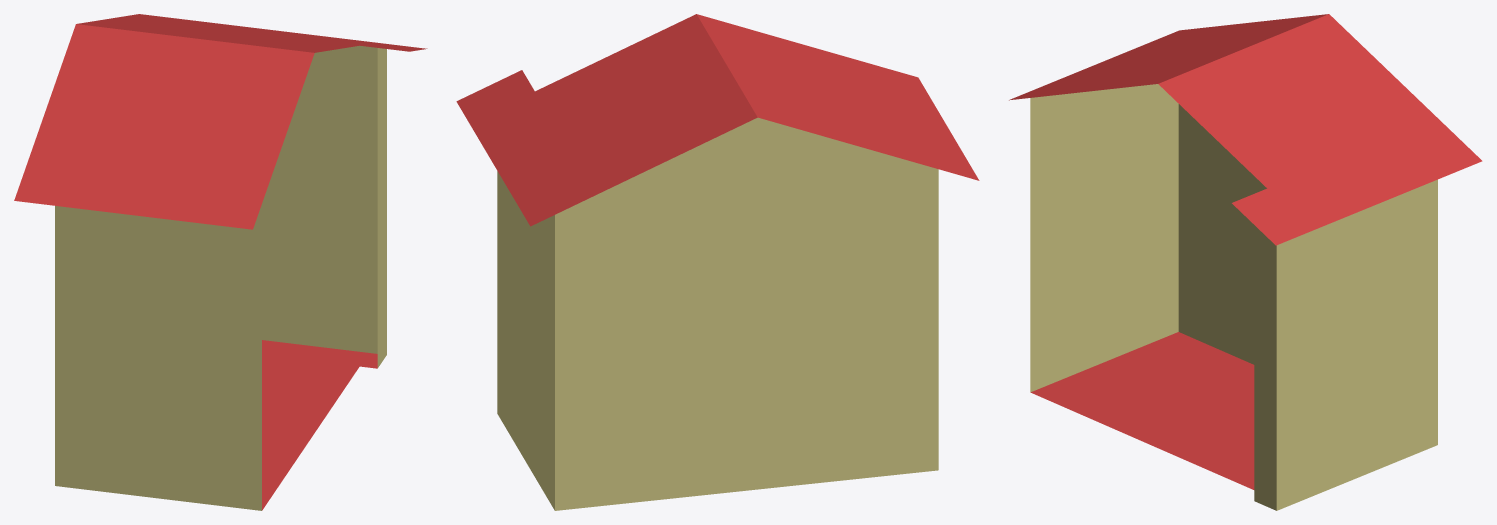
3 views of the same model, side by side, from view 1: azimuth 30°, elevation 25°; view 2: azimuth 150°, elevation 25°; view 3: azimuth 270°, elevation 25° (orthographic). The views are drawn at different scales.
Visible parts, largest first — view 1: group_5, group_3, group_6, group_4; view 2: group_5, group_3, group_4; view 3: group_5, group_3, group_6, group_4.
Boxes of the visible parts, x1,y1,x2,y2 form: group_5: [55, 45, 386, 510]; group_3: [14, 14, 427, 229]; group_6: [262, 340, 377, 510]; group_4: [19, 24, 407, 227]; group_5: [497, 117, 938, 510]; group_3: [456, 14, 979, 226]; group_4: [458, 69, 968, 191]; group_5: [1030, 84, 1437, 510]; group_3: [1009, 14, 1482, 245]; group_6: [1030, 332, 1254, 489]; group_4: [1013, 15, 1461, 243].
Bounding box in the file's own units: 12.12 × 11.2 × 9.49.
